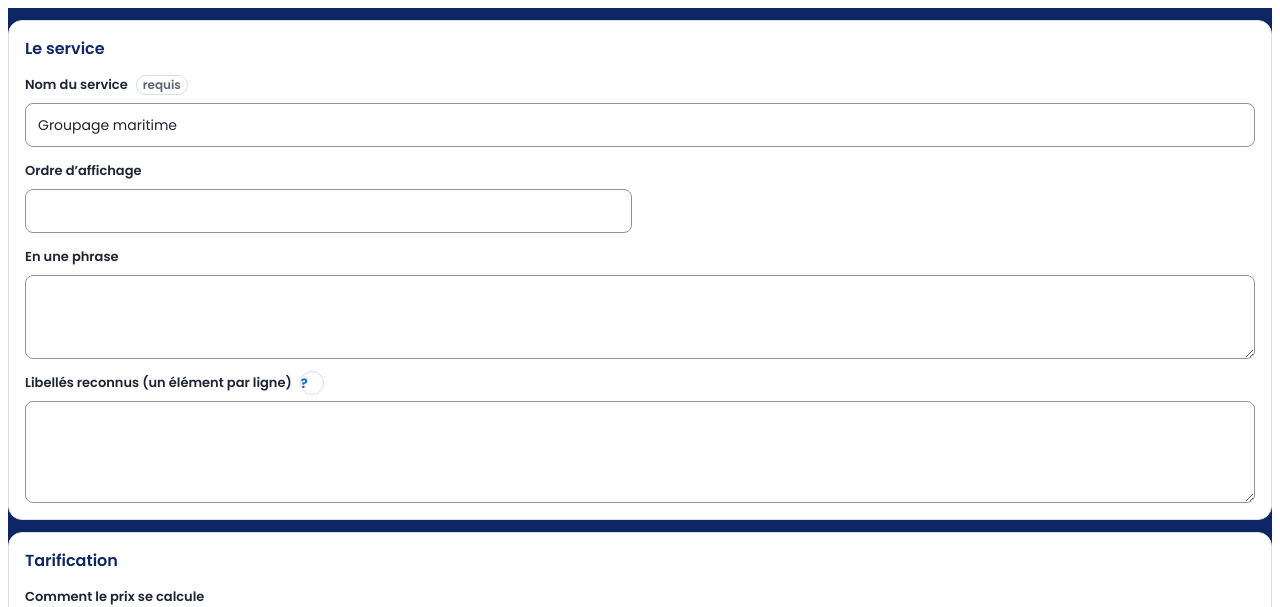
Test: EditeurFiche › affiche l’erreur avec « Réessayer » puis réussit
Type "Essai" into the text box labelled "En une phrase". click: (640, 317)
box: [25,275,1255,359]
Wait 900 ms
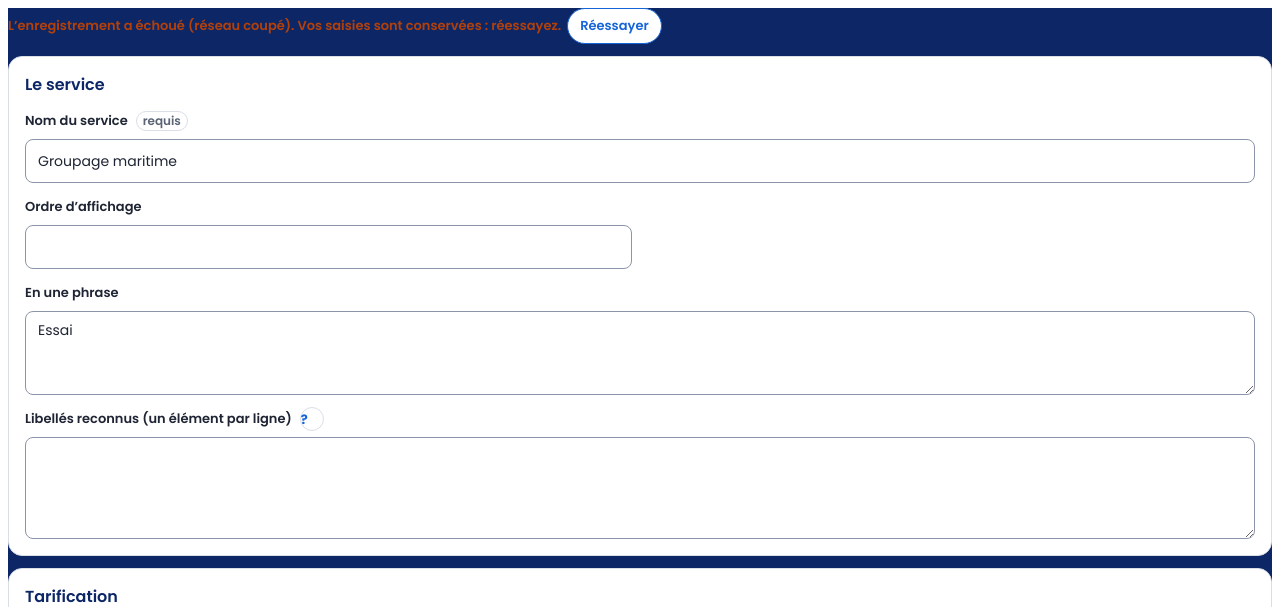
Check: the message is shown, box [8,8,662,44]
Click the button "Réessayer". click: (614, 26)
box: [567,8,662,44]
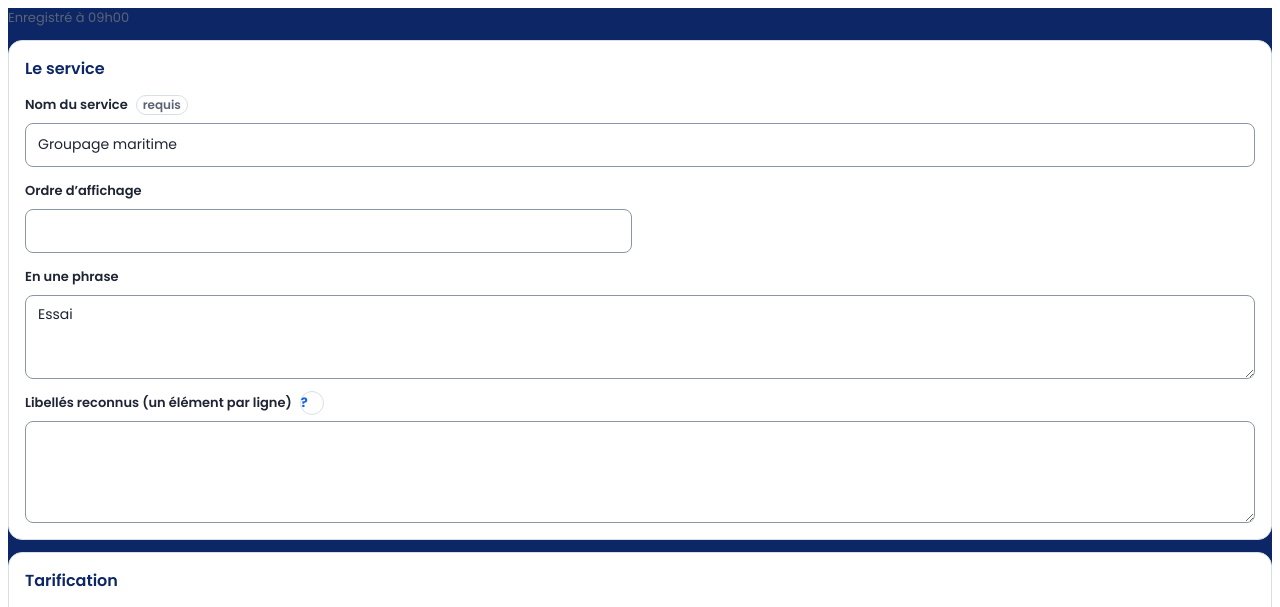
Check: the text "Enregistré à 09h00" is shown, box [8,8,129,27]
